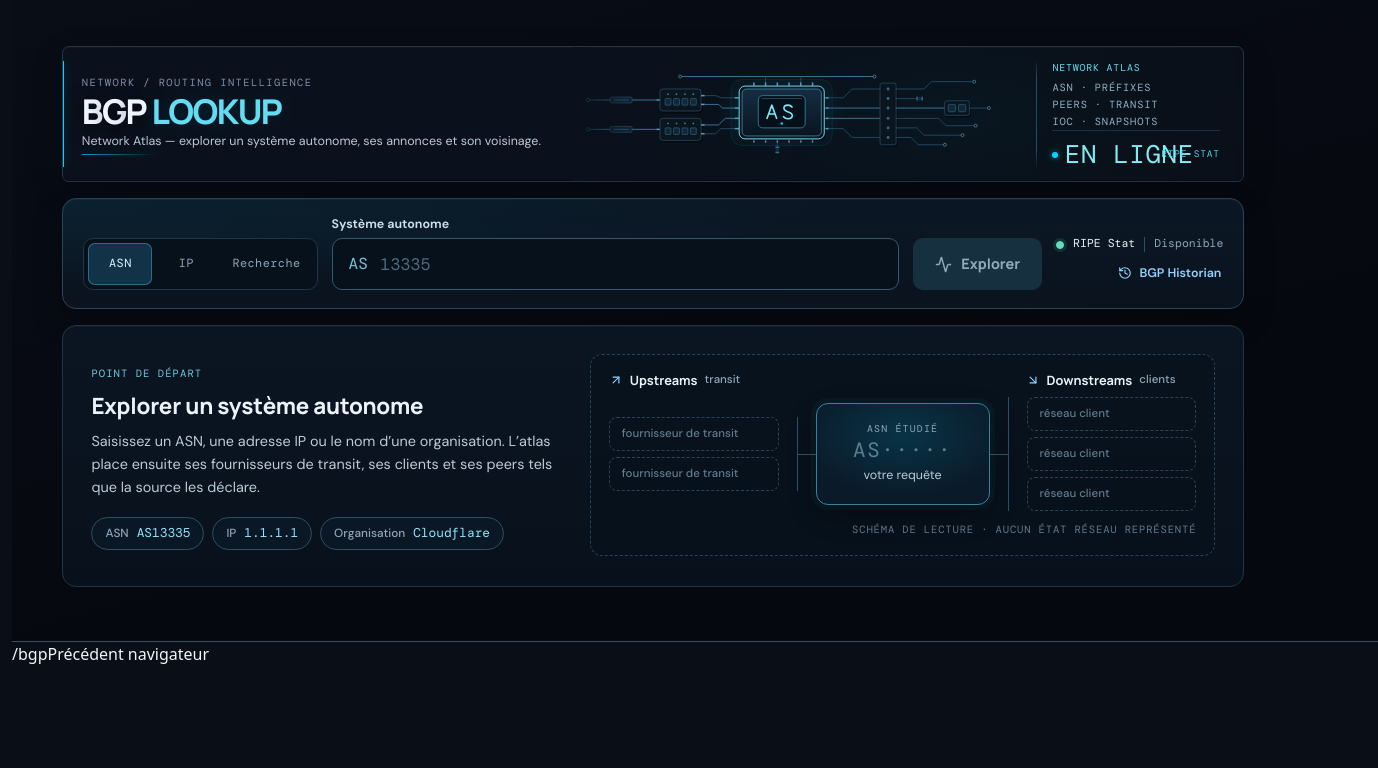
Test: Network / Routing ↔ BGP Lookup ↔ BGP Historian › opens plain Historian from an idle Lookup
Click the button "BGP Historian".
click(1170, 273)  # box [1116,260,1223,286]
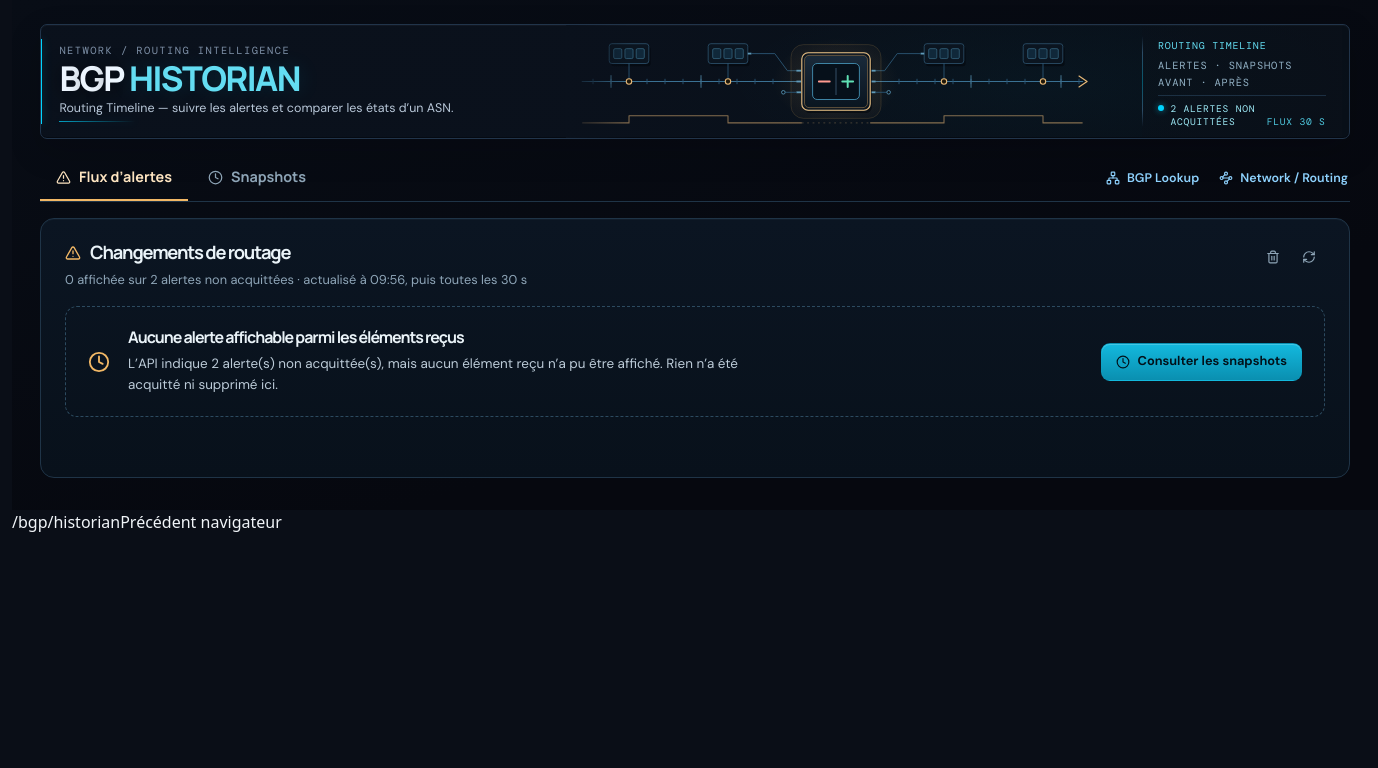
Expected: the text named "URL" reads "/bgp/historian", [12,511,120,533]
